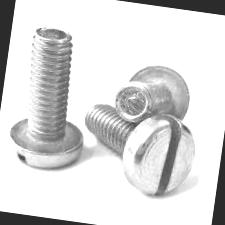slotted: (117, 109, 200, 202)
